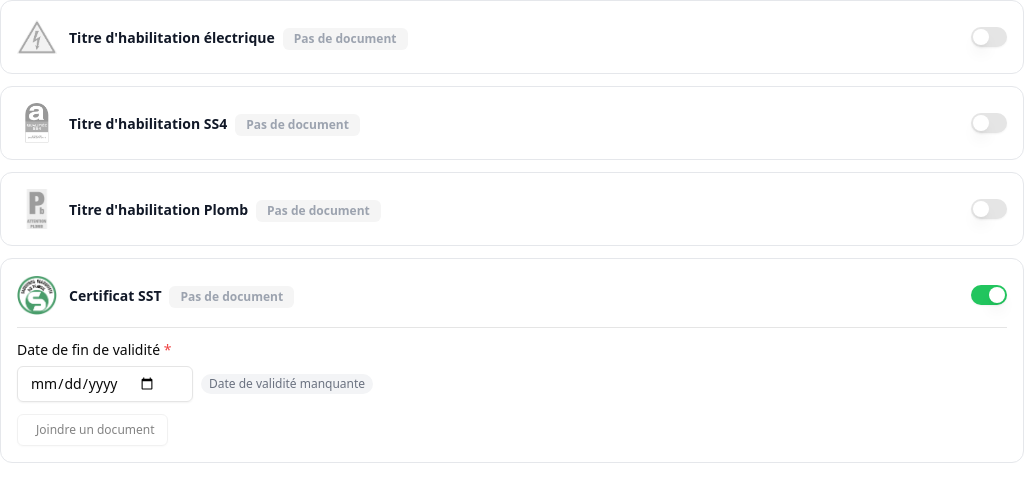
Test: SpecialHabilitationsAdmin — date de validité (DTA-51) › autorise le dépôt une fois la date renseignée
Type "2027-05-31" into the date field labelled "Date de fin de validité *". click: (105, 384)
box: x1=17 y1=366 x2=193 y2=402
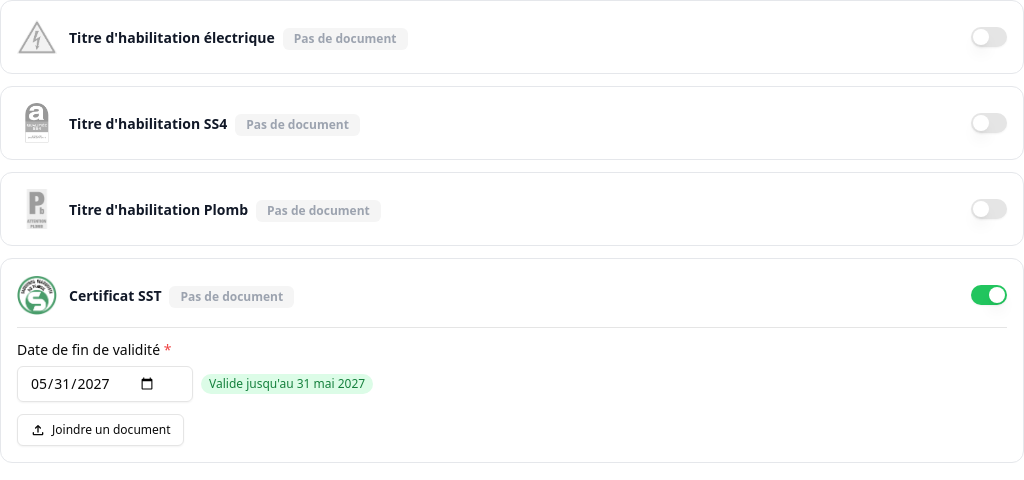
Check: the button "Joindre un document" is enabled, box x1=17 y1=414 x2=184 y2=446
